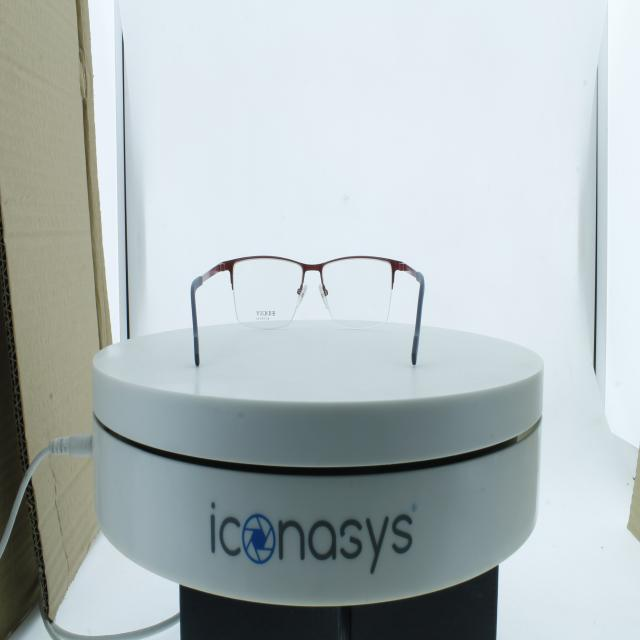Specs: (154, 200, 450, 382)
